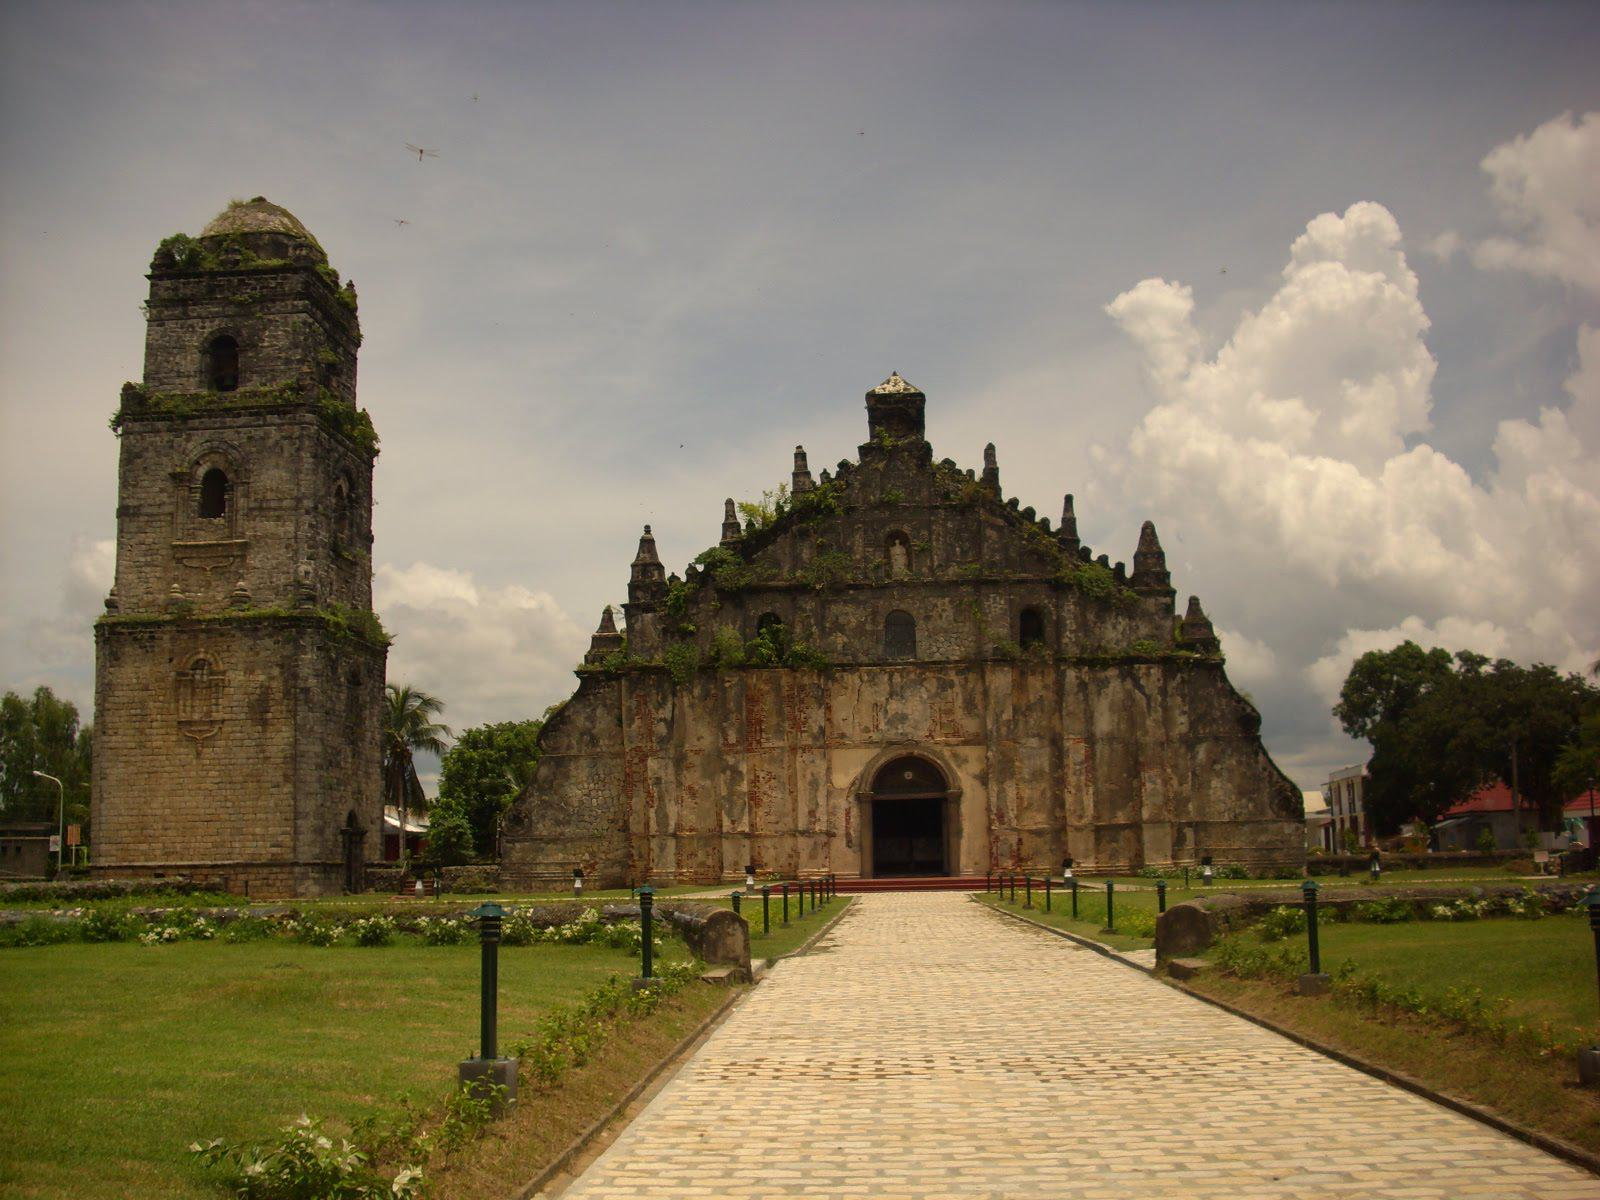Environmental Damage: (637, 620, 831, 683), (117, 376, 311, 426), (291, 586, 407, 661), (319, 396, 394, 458)
Paoay Church: (103, 166, 1317, 876)
